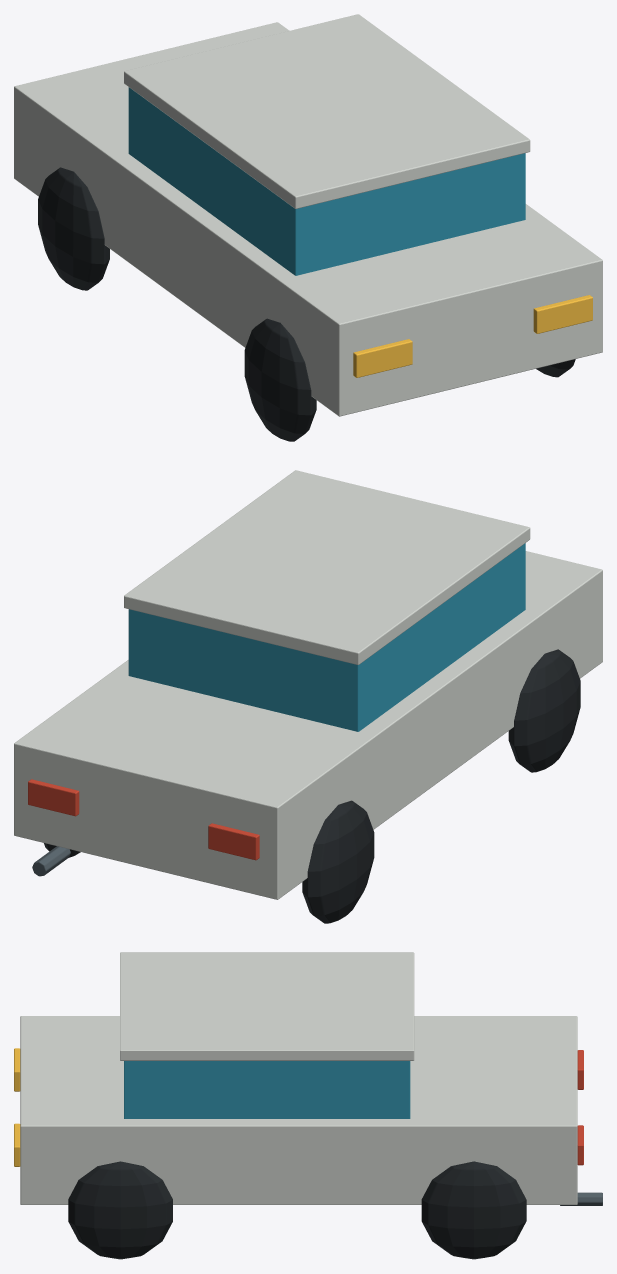
File: SAF_CAR_NORMAL_01.fbx
3 renders of one model, top to bottom at view 1: azimuth 30°, elevation 25°; view 2: azimuth 150°, elevation 25°; view 3: azimuth 270°, elevation 25°, orthographic. The views are drawn at different scales.
Parts seen in each view (by area): view 1: SAF_CAR_NORMAL_01; view 2: SAF_CAR_NORMAL_01; view 3: SAF_CAR_NORMAL_01.
Part boxes in pixels (x1,y1,x2,y2): SAF_CAR_NORMAL_01: [14, 14, 602, 441]; SAF_CAR_NORMAL_01: [14, 470, 602, 923]; SAF_CAR_NORMAL_01: [14, 952, 602, 1259].
Bounding box in the file's own units: 187 × 141 × 370.
